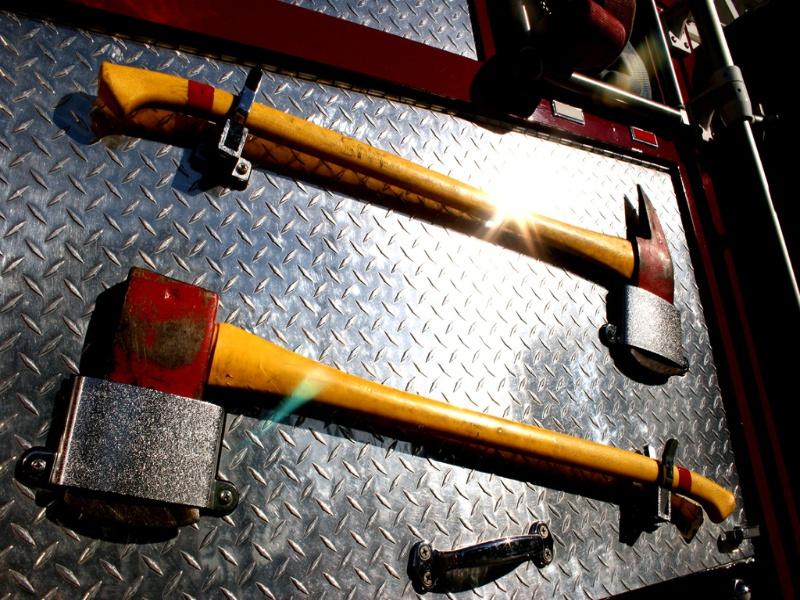axe: (80, 46, 713, 390), (32, 270, 741, 531)
